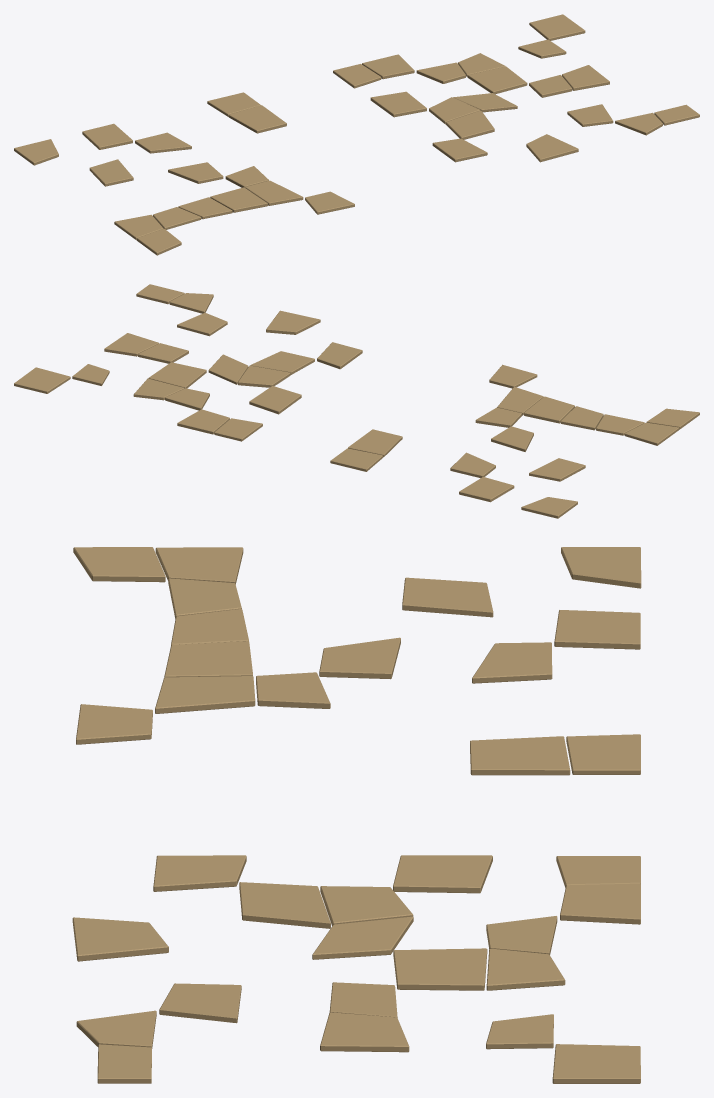
The model's file is Floor2_ArenaStoneDark.fbx.
3 renders of one model, top to bottom at view 1: azimuth 30°, elevation 25°; view 2: azimuth 150°, elevation 25°; view 3: azimuth 270°, elevation 25°, orthographic. The views are drawn at different scales.
Parts seen in each view (by area): view 1: Arena1-1_0_1.001; view 2: Arena1-1_0_1.001; view 3: Arena1-1_0_1.001.
Part boxes in pixels (x1=…): Arena1-1_0_1.001: x1=14, y1=14, x2=699, y2=255; Arena1-1_0_1.001: x1=14, y1=284, x2=699, y2=518; Arena1-1_0_1.001: x1=72, y1=547, x2=641, y2=1083.
Bounding box in the file's own units: 14977 × 88.95 × 6770.
